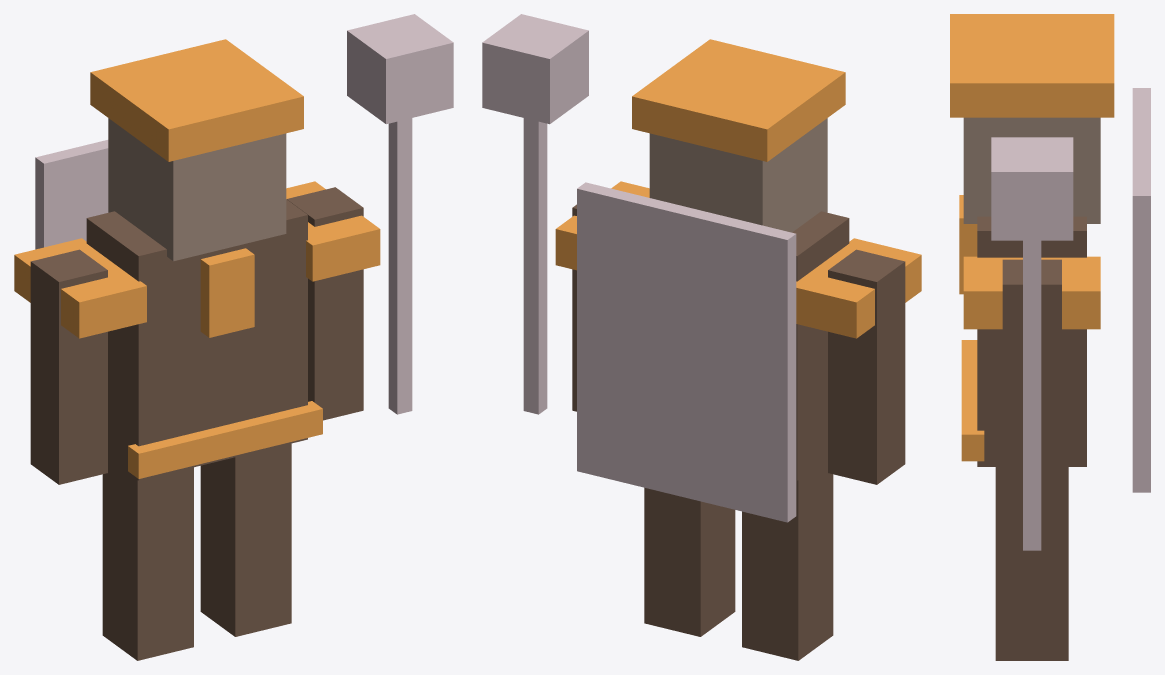
Rendered from 12_noor_echohand_medic_from_resonance.glb.
3 views of the same model, side by side, from view 1: azimuth 30°, elevation 25°; view 2: azimuth 150°, elevation 25°; view 3: azimuth 270°, elevation 25° (orthographic). The views are drawn at different scales.
Parts seen in each view (by area): view 1: Noor Echohand, Medic from Resonance; view 2: Noor Echohand, Medic from Resonance; view 3: Noor Echohand, Medic from Resonance.
Boxes of the visible parts, <box> form: Noor Echohand, Medic from Resonance: <box>14,14,453,660</box>; Noor Echohand, Medic from Resonance: <box>482,14,921,660</box>; Noor Echohand, Medic from Resonance: <box>950,14,1150,660</box>.
Size of the model in its own units: 1.11 by 1.48 by 0.4714.
